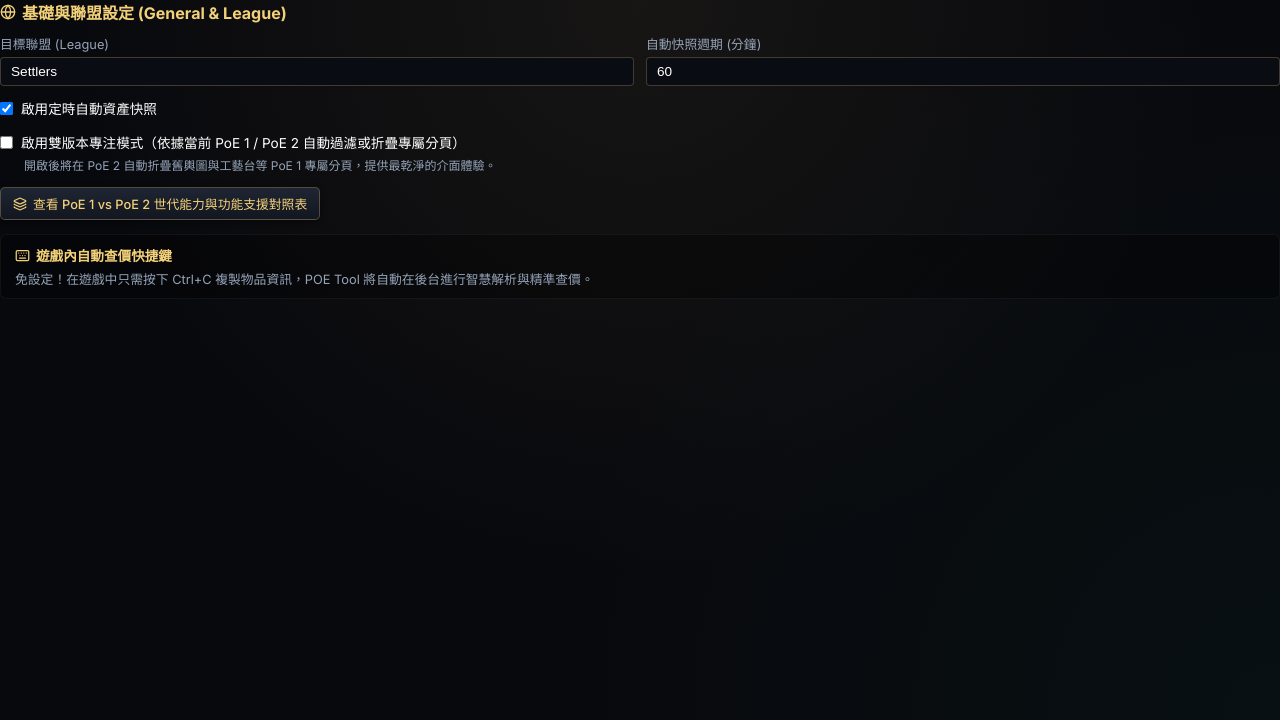
Test case: GeneralSettingsSection Component › opens FeatureCapabilityMatrixModal when clicking matrix button
expect the text "PoE 1 vs PoE 2 功能支援與世代能力對照表" is not shown: met
What coordinates should you click on to do the following:
click the button "查看 PoE 1 vs PoE 2 世代能力與功能支援對照表"
I would click on:
 (160, 204)
Its box is top-left (0, 187), bottom-right (320, 220).
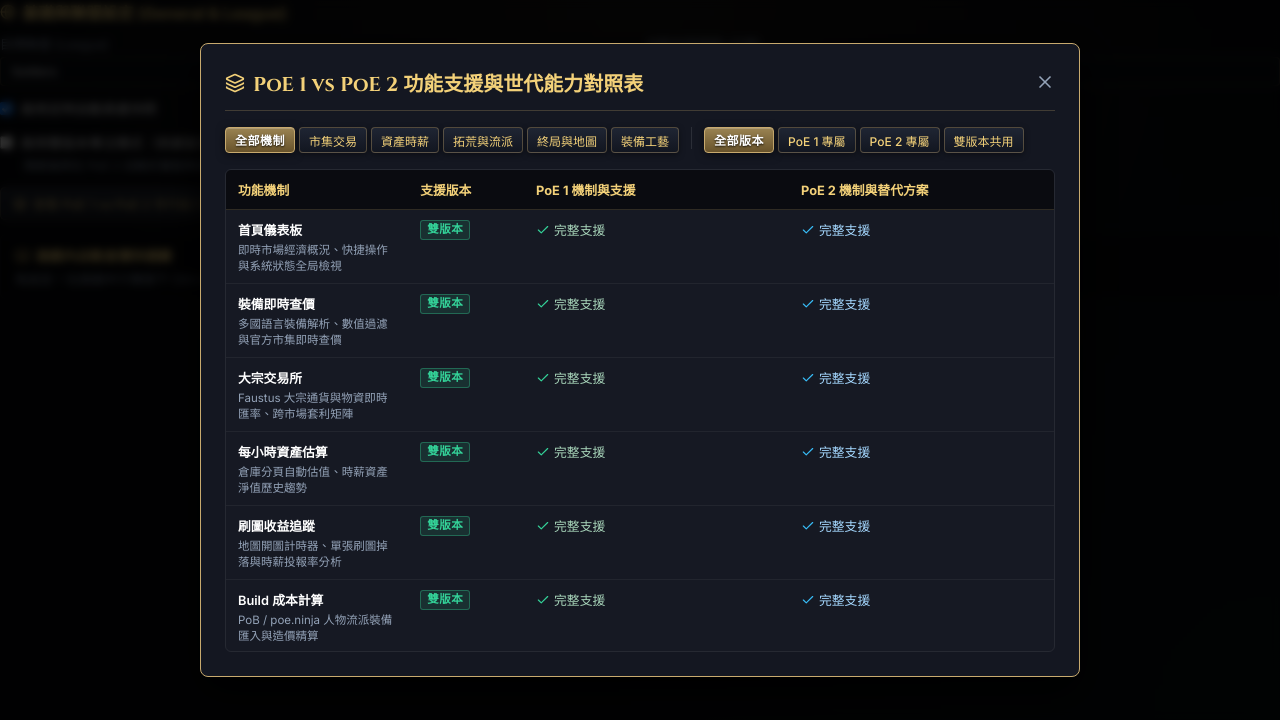
expect the heading "PoE 1 vs PoE 2 功能支援與世代能力對照表" is shown: met, box top-left (225, 68), bottom-right (643, 98)
